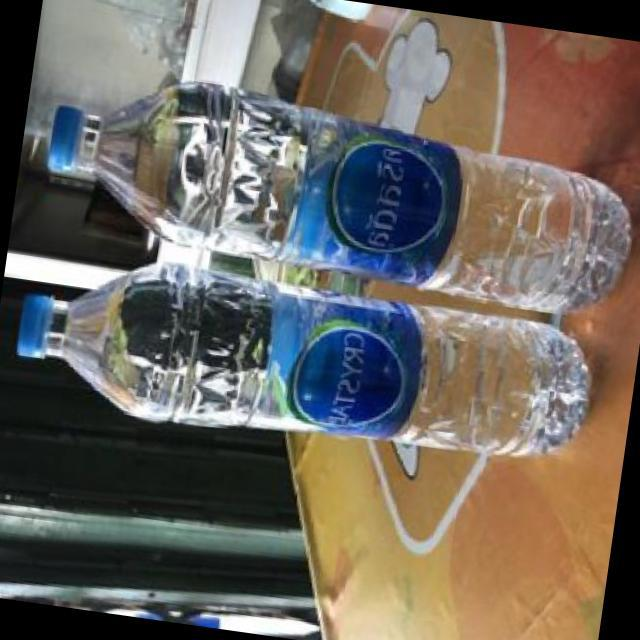good: (11, 46, 638, 314), (0, 230, 619, 482)
